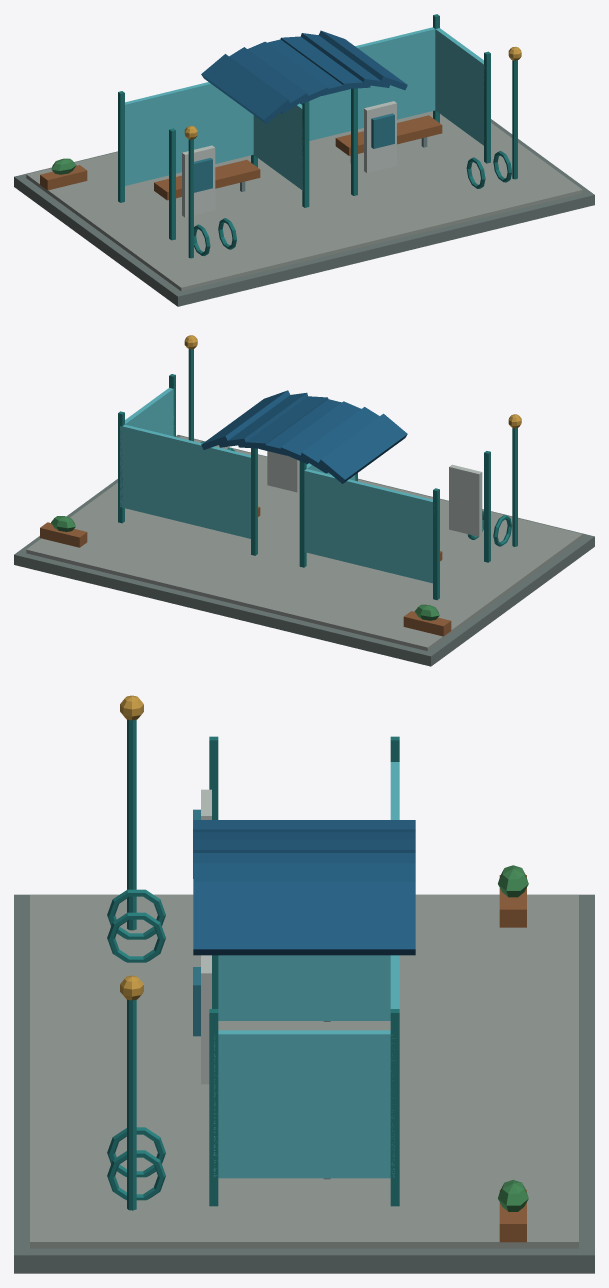
The model's file is bus_stop_lv3.glb.
3 views of the same model, one above another, from view 1: azimuth 30°, elevation 25°; view 2: azimuth 150°, elevation 25°; view 3: azimuth 270°, elevation 25° (orthographic). The views are drawn at different scales.
Parts seen in each view (by area): view 1: rough, glossy, metallic; view 2: rough, glossy, metallic; view 3: rough, glossy, metallic.
Boxes of the visible parts, left/top/right/bottom form: rough: left=14, top=14, right=594, bottom=306; glossy: left=125, top=27, right=484, bottom=192; metallic: left=201, top=30, right=427, bottom=191; rough: left=14, top=335, right=594, bottom=666; glossy: left=120, top=388, right=434, bottom=583; metallic: left=201, top=390, right=407, bottom=483; rough: left=14, top=695, right=594, bottom=1273; glossy: left=193, top=762, right=399, bottom=1178; metallic: left=193, top=820, right=415, bottom=1179.
Bounding box in the file's own units: 9.4 × 3.12 × 6.4.
